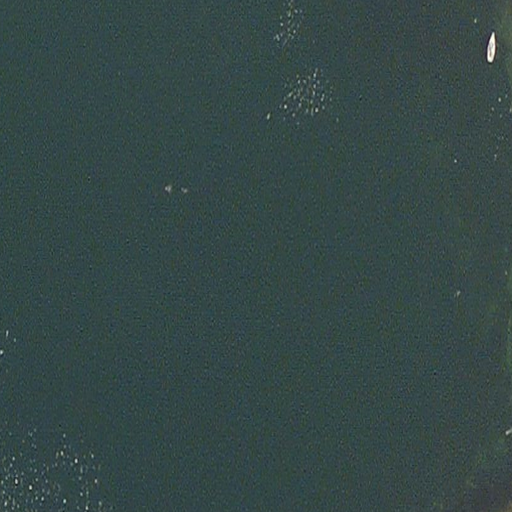ship: (485, 31, 496, 63)
